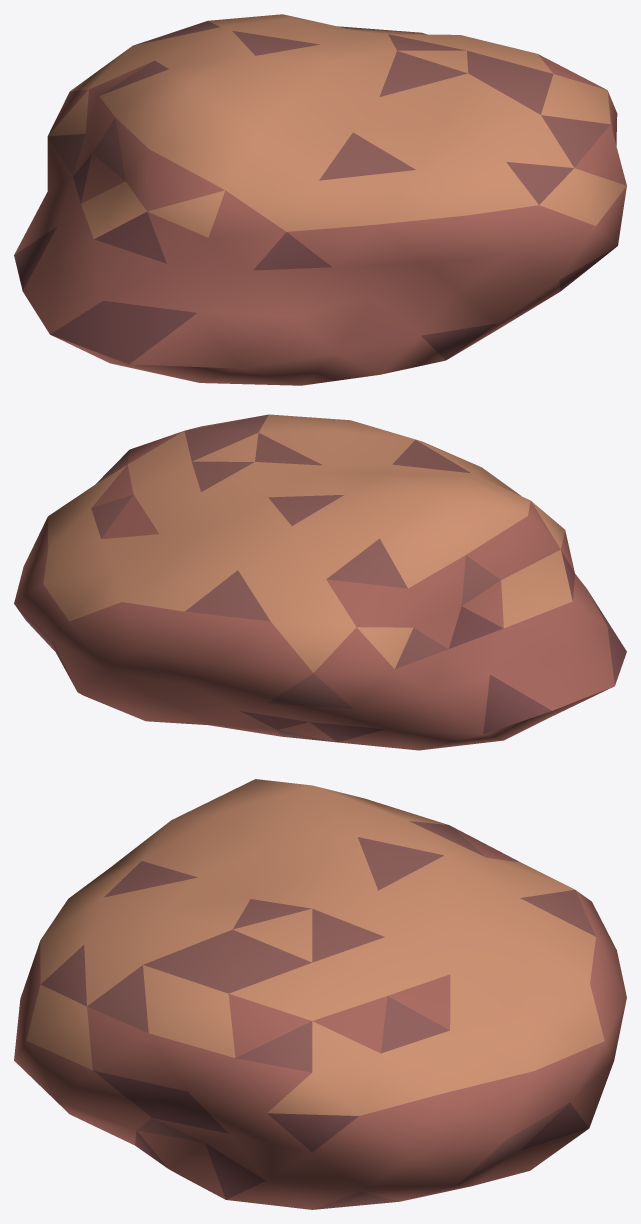
The model's file is rock_8.glb.
3 renders of one model, top to bottom at view 1: azimuth 30°, elevation 25°; view 2: azimuth 150°, elevation 25°; view 3: azimuth 270°, elevation 25°, orthographic. The views are drawn at different scales.
Visible parts, largest first — view 1: rock_8; view 2: rock_8; view 3: rock_8.
Part boxes in pixels (<box>): rock_8: <box>14,14,626,385</box>; rock_8: <box>14,414,626,750</box>; rock_8: <box>14,779,626,1209</box>.
Bounding box in the file's own units: 7.95 × 2.88 × 6.84.
